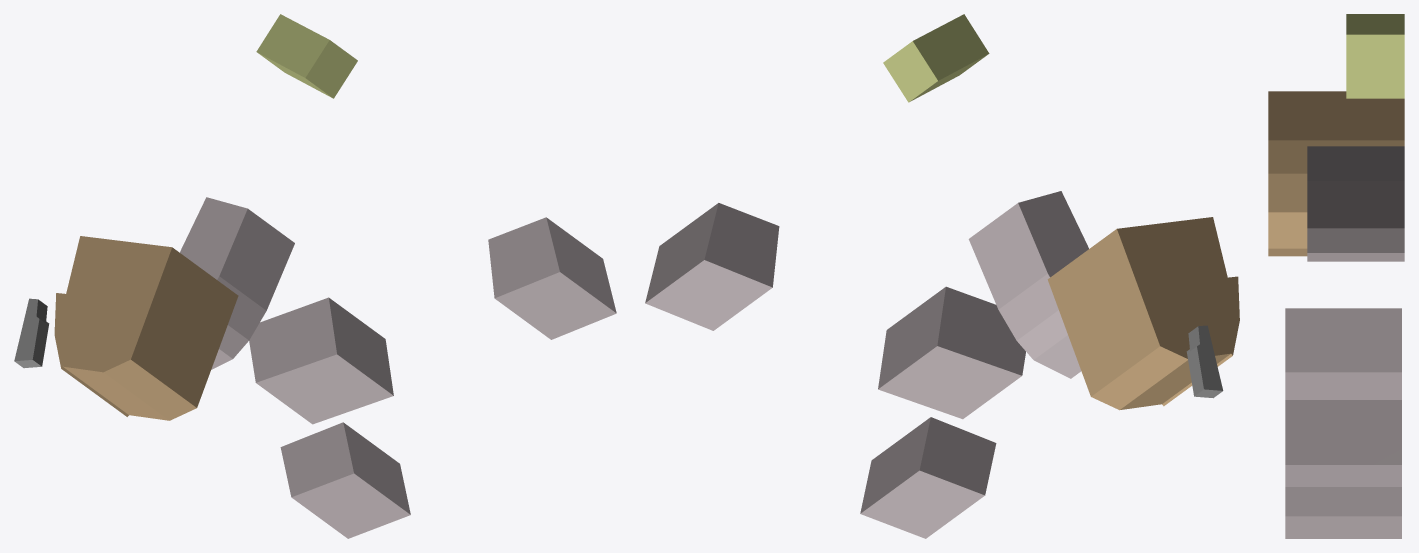
3 views of the same model, side by side, from view 1: azimuth 30°, elevation 25°; view 2: azimuth 150°, elevation 25°; view 3: azimuth 270°, elevation 25° (orthographic). The views are drawn at different scales.
Parts seen in each view (by area): view 1: 0_3_0_1_1_1_3_3; view 2: 0_3_0_1_1_1_3_3; view 3: 0_3_0_1_1_1_3_3.
Boxes of the visible parts, left/top/right/bottom form: 0_3_0_1_1_1_3_3: left=14, top=14, right=616, bottom=538; 0_3_0_1_1_1_3_3: left=645, top=14, right=1239, bottom=538; 0_3_0_1_1_1_3_3: left=1268, top=14, right=1404, bottom=538.
Bounding box in the file's own units: 99.66 × 84.75 × 21.
